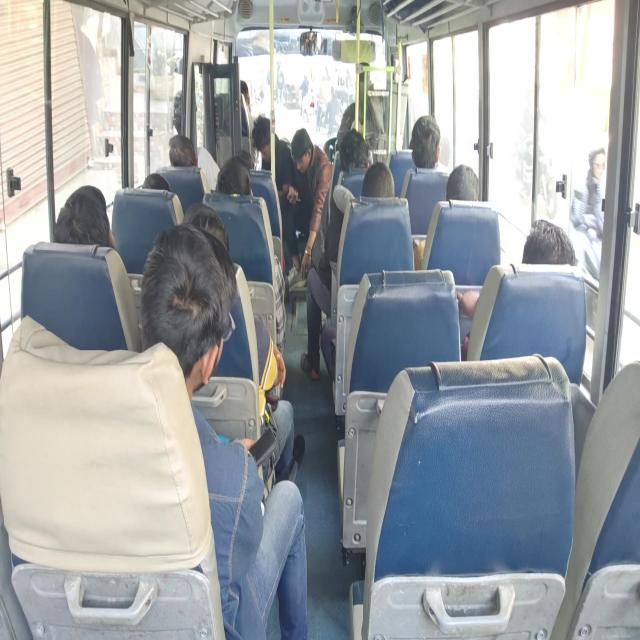person: (146, 225, 210, 356), (46, 186, 113, 255), (514, 219, 574, 289), (188, 200, 237, 276), (448, 161, 483, 226), (412, 125, 455, 177), (165, 92, 204, 148), (221, 167, 266, 215), (165, 129, 205, 174), (287, 132, 319, 181), (143, 167, 177, 209), (257, 111, 282, 157), (360, 169, 390, 207), (339, 132, 365, 166), (230, 77, 252, 110), (234, 142, 258, 168)
